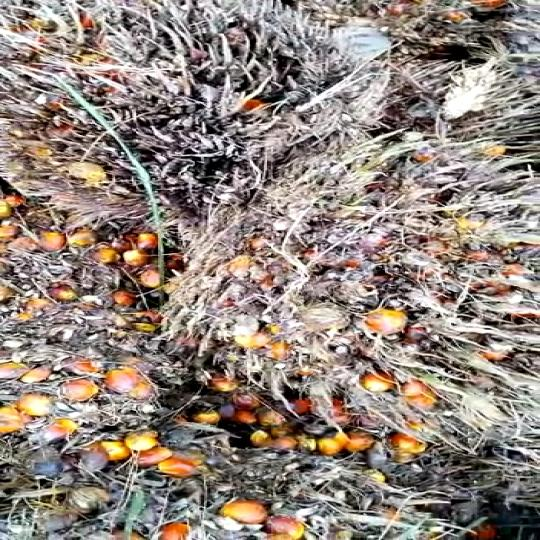terlalu masak: (158, 128, 540, 444), (0, 0, 403, 228)
